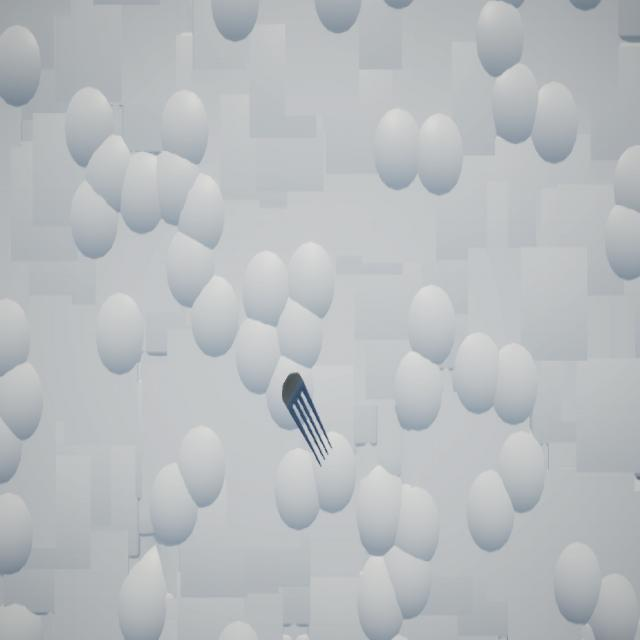top_folk: (283, 373, 333, 468)
